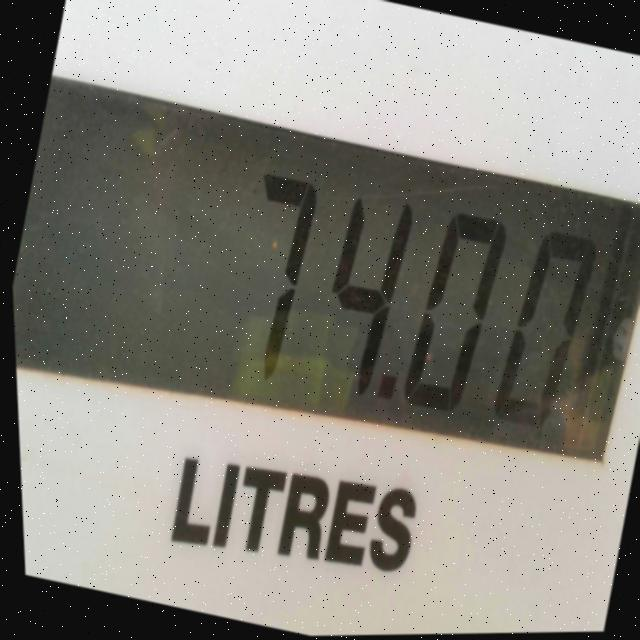.: (375, 372, 397, 406)
0: (391, 211, 513, 413), (485, 233, 596, 424)
4: (300, 188, 417, 403)
7: (220, 170, 322, 382)
